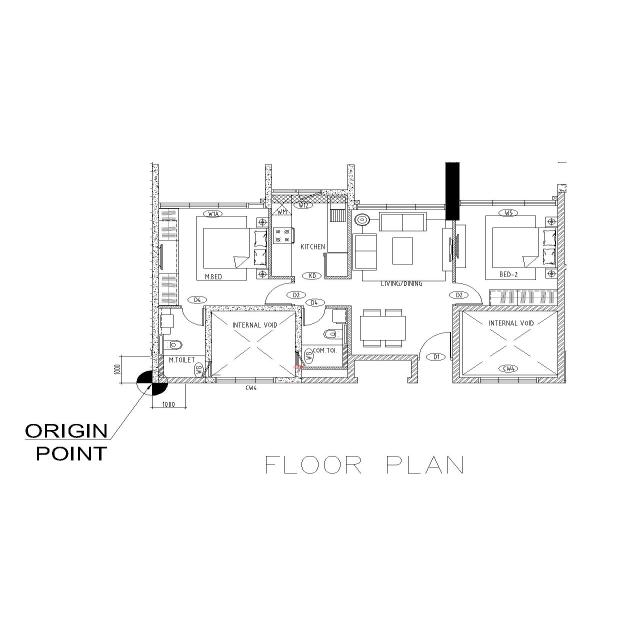Column: (444, 162, 460, 221)
Door: (416, 354, 454, 361), (291, 282, 296, 306), (452, 282, 457, 306), (300, 305, 328, 309), (180, 305, 206, 309)
Ventilator: (294, 350, 303, 366), (205, 361, 212, 378)
Window: (458, 199, 559, 207), (355, 203, 445, 211), (158, 202, 250, 209), (477, 376, 539, 384), (214, 376, 276, 384), (271, 189, 323, 196)
